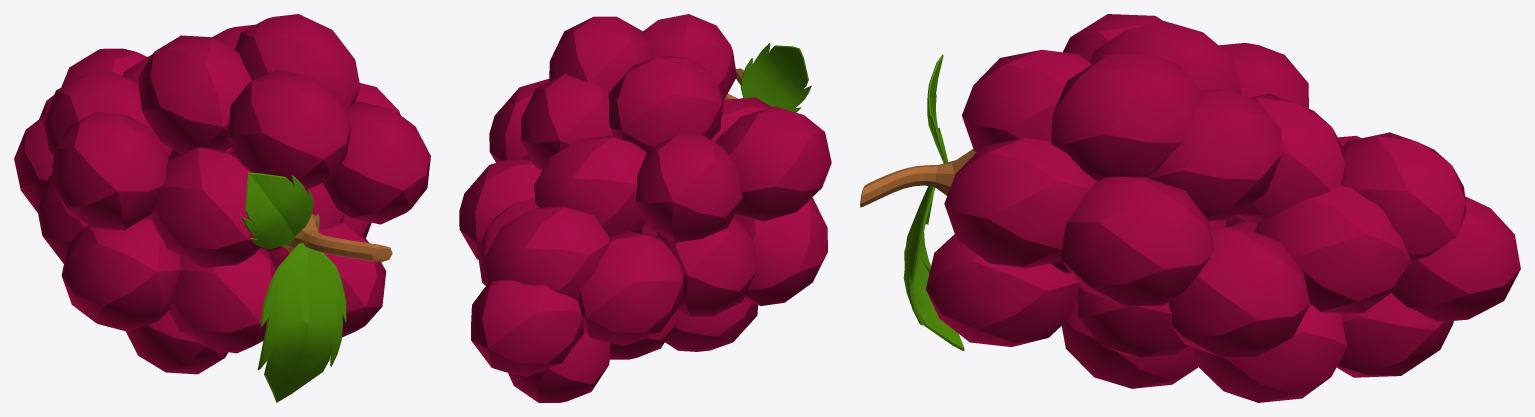
Rendered from RacimoRoja.fbx.
3 views of the same model, side by side, from view 1: azimuth 30°, elevation 25°; view 2: azimuth 150°, elevation 25°; view 3: azimuth 270°, elevation 25° (orthographic). The views are drawn at different scales.
Visible parts, largest first — view 1: UvaRojaRacimo; view 2: UvaRojaRacimo; view 3: UvaRojaRacimo.
Part boxes in pixels (box(x1,y1,x2,y2)): UvaRojaRacimo: box(14, 14, 430, 402); UvaRojaRacimo: box(459, 14, 831, 402); UvaRojaRacimo: box(860, 14, 1520, 402).
Bounding box in the file's own units: 11.01 × 9.87 × 16.48.
